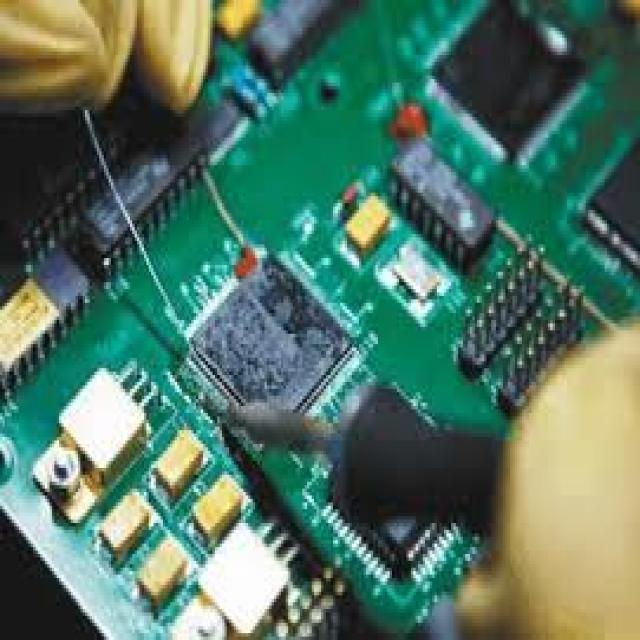pcb: (0, 0, 638, 637), (29, 354, 298, 636), (222, 375, 501, 633), (71, 93, 241, 258), (385, 131, 496, 272), (0, 238, 90, 399), (456, 241, 541, 378), (76, 148, 170, 248), (0, 272, 61, 389)
